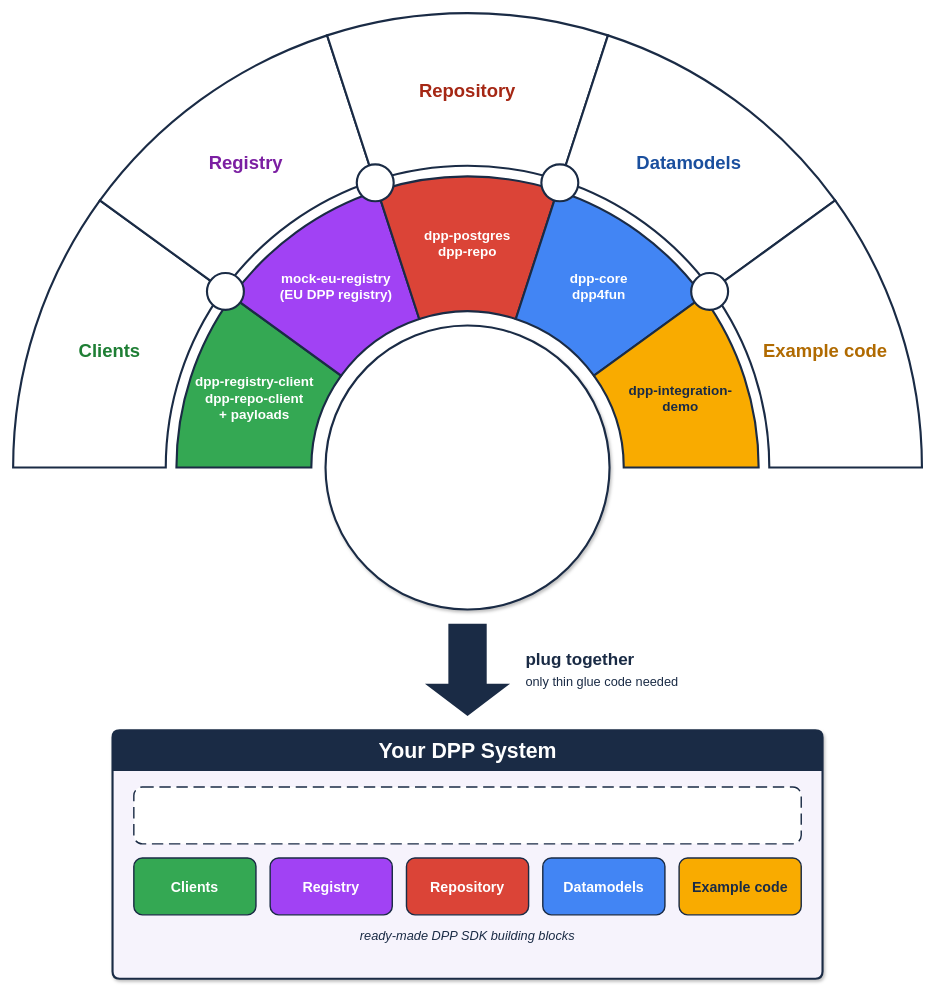
Image size: 935x997. Some labels were removed from this diagram. The shapes that lost their labels are listed below. From the top down, each one's centre as x and y in pixels, then its label:
At point 468,468: "DPP SDK COMPONENTS (Open-Source)".
At point 467,815: "Your business logic & UI the only part you build yourself".
